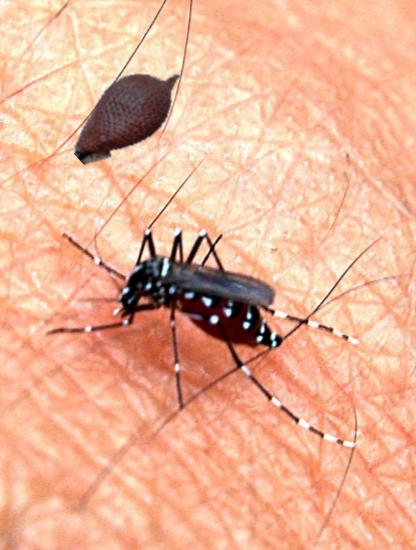Salak: (61, 49, 193, 181)
